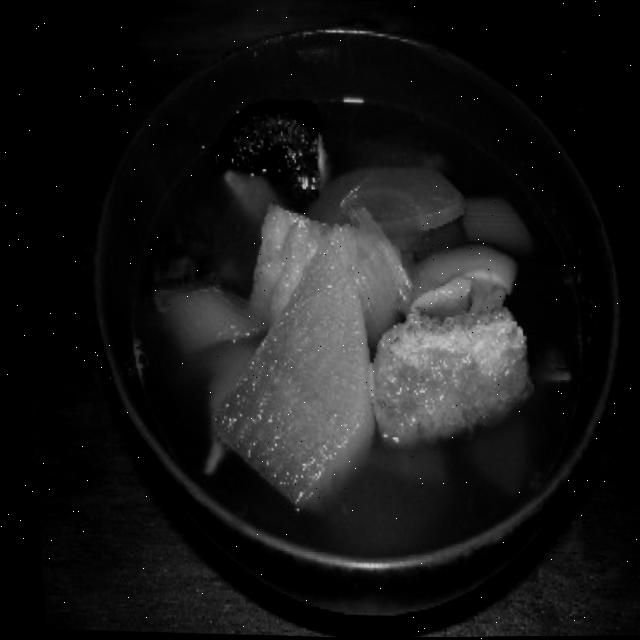蔬菜料理: (28, 0, 640, 640)
